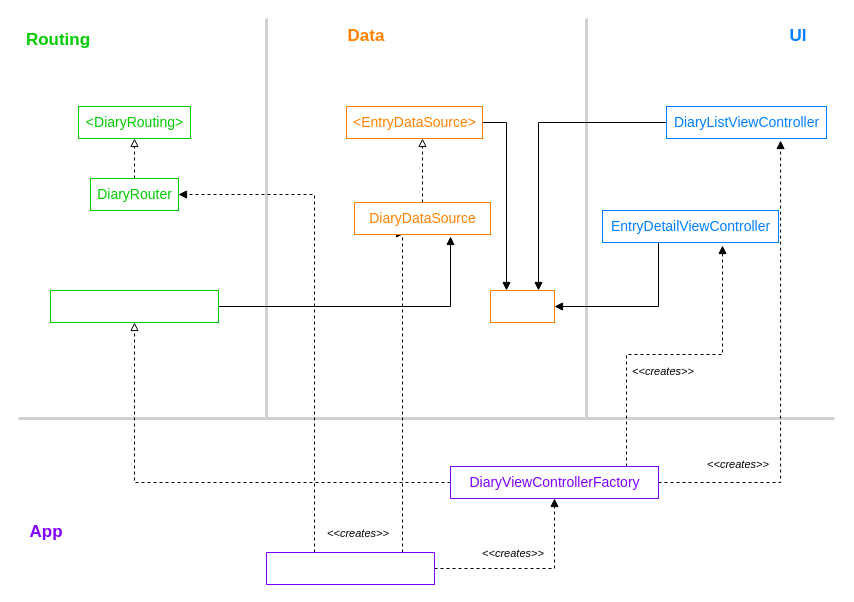
This 854x602 diagram has some shape labels left out. Here are the shapes that lost their labels. From the top down, the centre of each, then its label:
At point 134,306: "<ViewControllerFactory>".
At point 522,306: "Entry".
At point 350,568: "AppDelegate".
